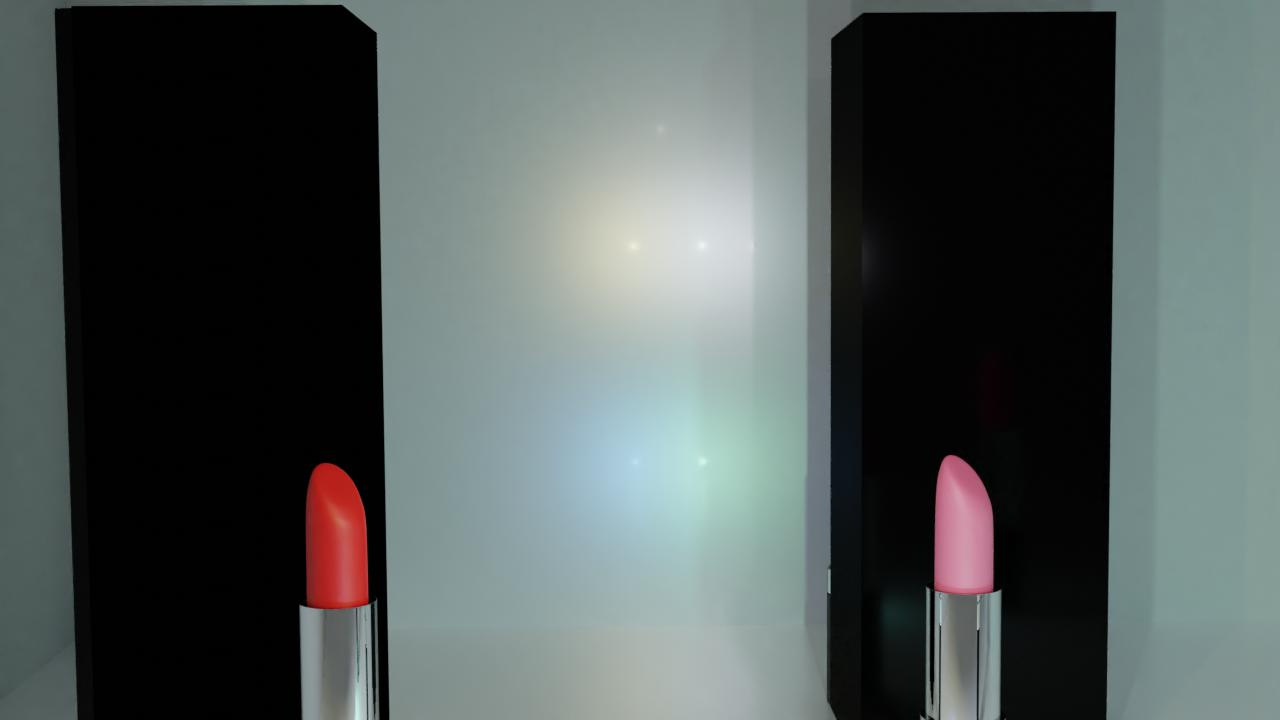CLASSIFIER_NAME: (293, 457, 390, 720), (917, 449, 1008, 720)
